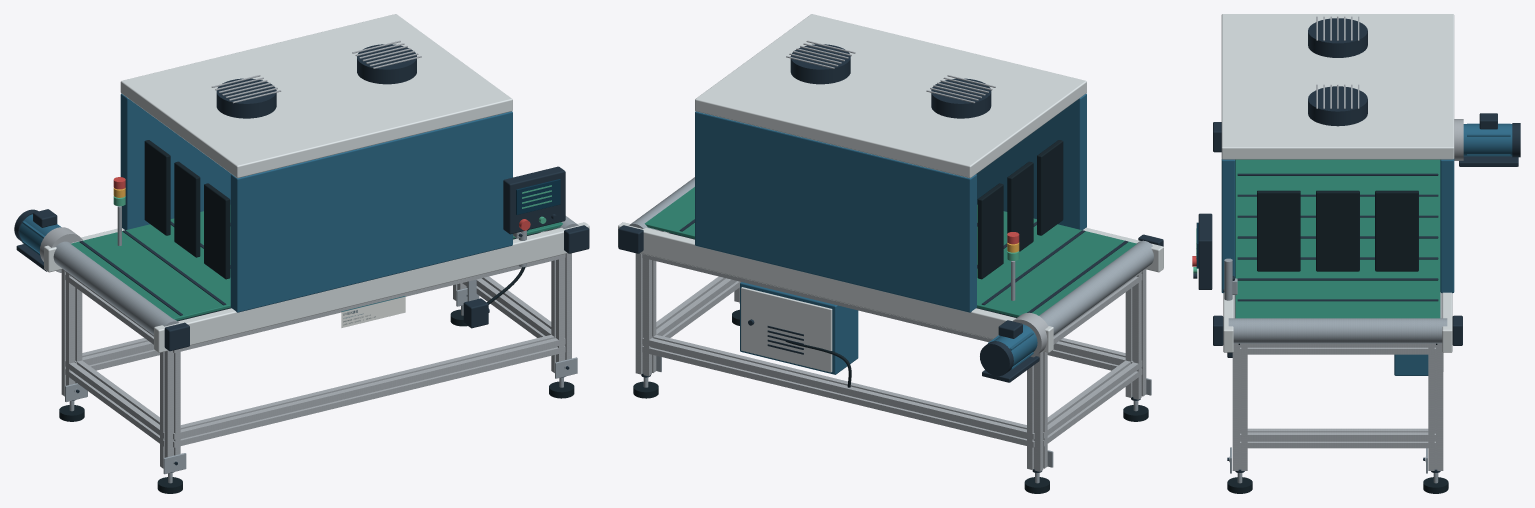
File: uv-curer.glb
3 renders of one model, left to right at view 1: azimuth 30°, elevation 25°; view 2: azimuth 150°, elevation 25°; view 3: azimuth 270°, elevation 25°, orthographic.
Parts seen in each view (by area): view 1: TunnelWall_109, TunnelRoof_110, ConveyorSide_70, Extrusion_34, BeltTop_77, TunnelWall_108, EndRoller_71, Extrusion_36, PanelBack_50, EntryCurtain_127, EntryCurtain_128, EntryCurtain_129 (+14 smaller); view 2: TunnelWall_108, TunnelRoof_110, BeltTop_77, ConveyorSide_69, Extrusion_32, TunnelWall_109, BackAccessDoor_41, EndRoller_71, Extrusion_36, Extrusion_19, ElectricalCabinet_40, Extrusion_11 (+15 smaller); view 3: TunnelRoof_110, BeltTop_77, EndRoller_74, Extrusion_38, EntryCurtain_130, EntryCurtain_131, EntryCurtain_132, Extrusion_39, TunnelWall_108, Extrusion_19, Extrusion_27, ExhaustFan_119 (+15 smaller).
Part boxes in pixels (left/top/right/bottom): TunnelWall_109: left=230, top=111, right=512, bottom=312; TunnelRoof_110: left=120, top=14, right=512, bottom=178; ConveyorSide_70: left=154, top=222, right=589, bottom=352; Extrusion_34: left=173, top=334, right=565, bottom=447; BeltTop_77: left=71, top=205, right=562, bottom=320; TunnelWall_108: left=120, top=93, right=231, bottom=230; EndRoller_71: left=53, top=241, right=179, bottom=335; Extrusion_36: left=65, top=360, right=164, bottom=446; PanelBack_50: left=503, top=166, right=565, bottom=234; EntryCurtain_127: left=144, top=140, right=170, bottom=235; EntryCurtain_128: left=174, top=161, right=200, bottom=257; EntryCurtain_129: left=204, top=183, right=230, bottom=279; TunnelWall_108: left=695, top=111, right=976, bottom=312; TunnelRoof_110: left=695, top=14, right=1086, bottom=177; BeltTop_77: left=644, top=187, right=1136, bottom=317; ConveyorSide_69: left=618, top=222, right=1053, bottom=352; Extrusion_32: left=642, top=335, right=1034, bottom=447; TunnelWall_109: left=976, top=93, right=1086, bottom=230; BackAccessDoor_41: left=741, top=287, right=832, bottom=372; EndRoller_71: left=1039, top=240, right=1153, bottom=335; Extrusion_36: left=1043, top=360, right=1142, bottom=446; Extrusion_19: left=635, top=253, right=656, bottom=376; ElectricalCabinet_40: left=740, top=282, right=858, bottom=374; Extrusion_11: left=1125, top=268, right=1146, bottom=399; TunnelRoof_110: left=1221, top=14, right=1454, bottom=159; BeltTop_77: left=1235, top=159, right=1440, bottom=318; EndRoller_74: left=1228, top=318, right=1447, bottom=343; Extrusion_38: left=1240, top=428, right=1435, bottom=448; EntryCurtain_130: left=1375, top=190, right=1418, bottom=271; EntryCurtain_131: left=1316, top=190, right=1359, bottom=271; EntryCurtain_132: left=1257, top=190, right=1300, bottom=271; Extrusion_39: left=1240, top=343, right=1435, bottom=354; TunnelWall_108: left=1440, top=159, right=1454, bottom=293; Extrusion_19: left=1428, top=343, right=1443, bottom=470; Extrusion_27: left=1232, top=343, right=1247, bottom=470; ExhaustFan_119: left=1308, top=86, right=1367, bottom=126.
Size of the model in its own units: 2.15 by 1.59 by 1.42.
Materials: 13 (3 with a texture image).
